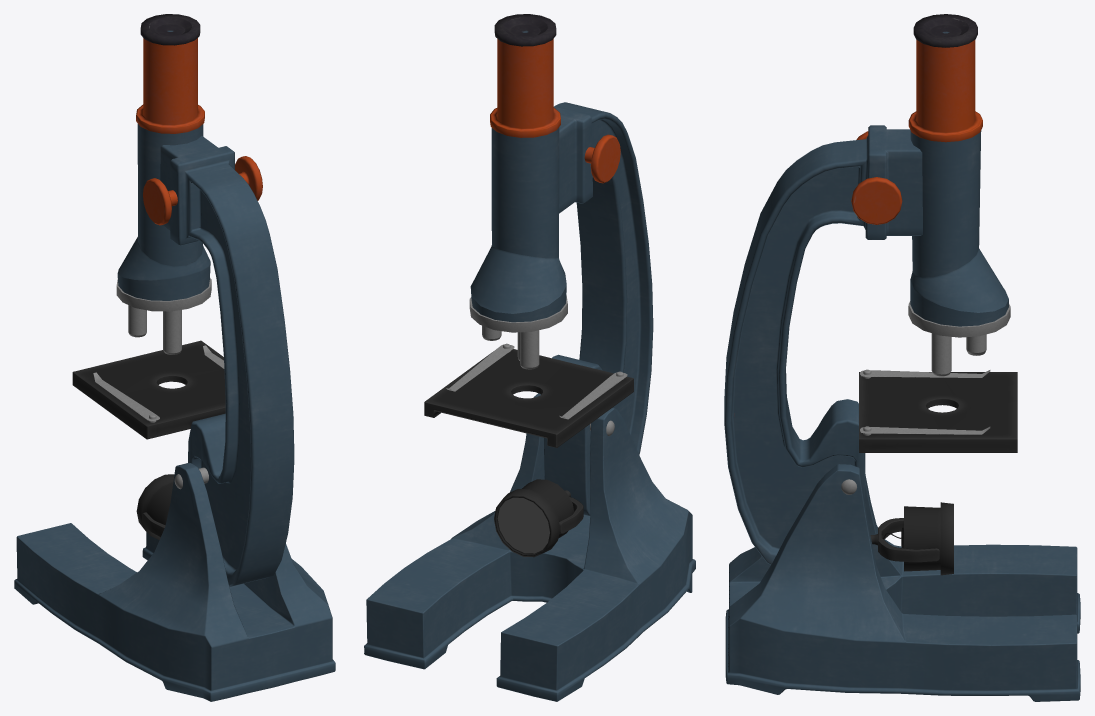
Rendered from uploads_files_3952646_Microscope.fbx.
The picture shows the model from 3 angles, left to right: view 1: azimuth 30°, elevation 25°; view 2: azimuth 150°, elevation 25°; view 3: azimuth 270°, elevation 25°; orthographic projection. The views are drawn at different scales.
Visible parts, largest first — view 1: Microscope; view 2: Microscope; view 3: Microscope.
Boxes of the visible parts, x1,y1,x2,y2 form: Microscope: (14, 14, 335, 701); Microscope: (364, 14, 695, 701); Microscope: (724, 14, 1080, 701).
Bounding box in the file's own units: 40.67 × 116 × 60.03.
